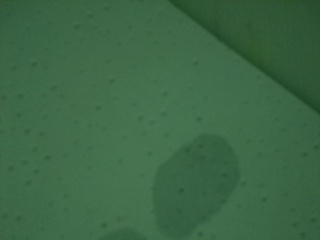Water_detected: (99, 155, 216, 240)
